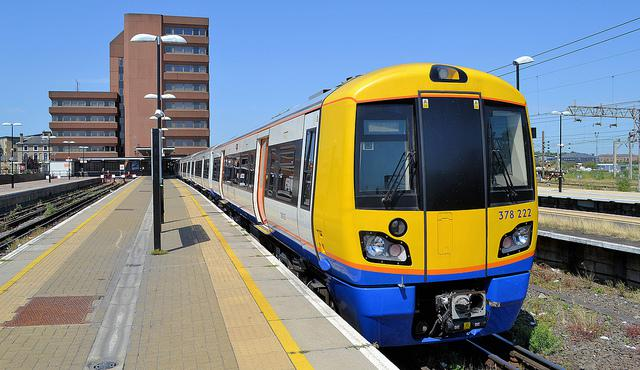Train: (171, 65, 540, 349)
